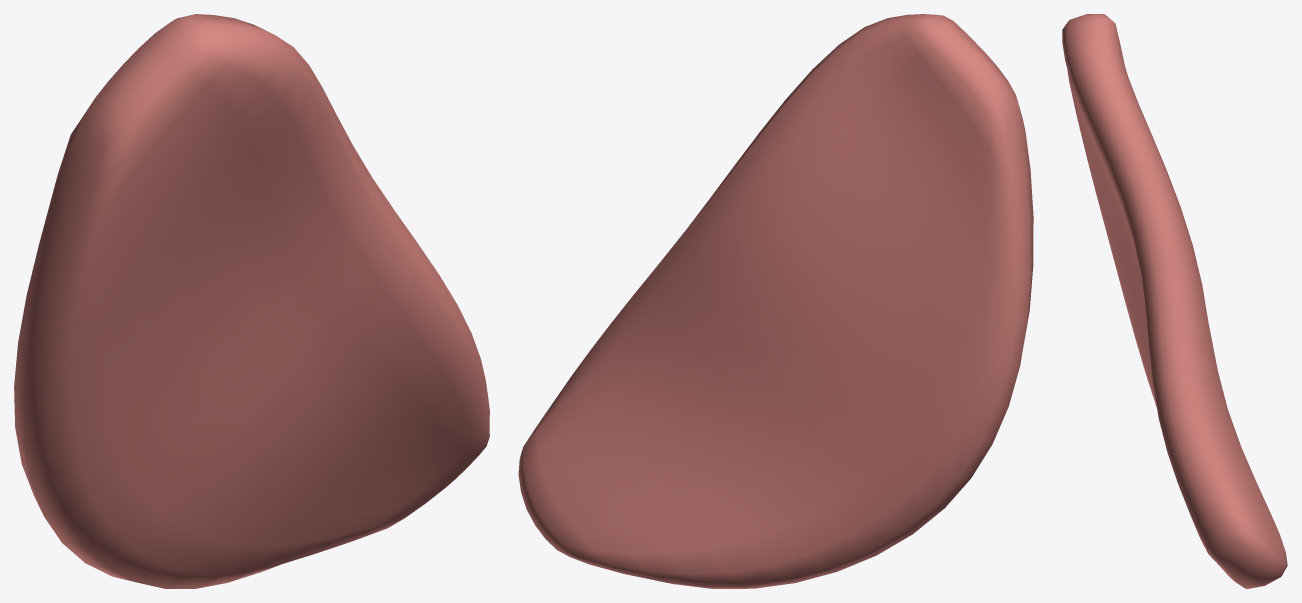
3 views of the same model, side by side, from view 1: azimuth 30°, elevation 25°; view 2: azimuth 150°, elevation 25°; view 3: azimuth 270°, elevation 25° (orthographic). The views are drawn at different scales.
Parts seen in each view (by area): view 1: ZA_b83d715e1d1a4a2b; view 2: ZA_b83d715e1d1a4a2b; view 3: ZA_b83d715e1d1a4a2b.
Part boxes in pixels (x1=…): ZA_b83d715e1d1a4a2b: x1=14, y1=14, x2=489, y2=588; ZA_b83d715e1d1a4a2b: x1=518, y1=14, x2=1033, y2=588; ZA_b83d715e1d1a4a2b: x1=1062, y1=14, x2=1287, y2=588.
Size of the model in its own units: 0.0157 by 0.0186 by 0.0081.
